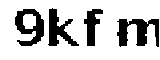9: (7, 4, 46, 51)
f: (80, 2, 105, 52)
k: (47, 4, 80, 51)
m: (114, 11, 160, 54)
